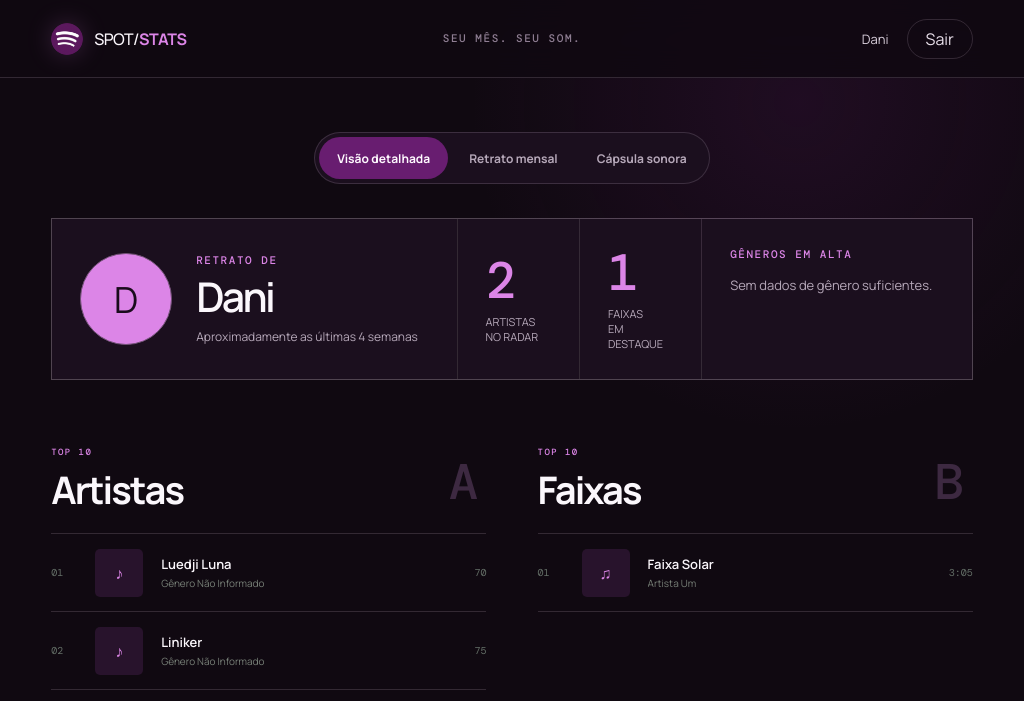
Scenario: SpotStatsPage › não exibe o bloco de destaques retornados quando a cápsula não tem gênero
What coordinates should you click on to do the following:
click the tab "Cápsula sonora"
I would click on:
 (642, 158)
Its box is [579,137,705,179].
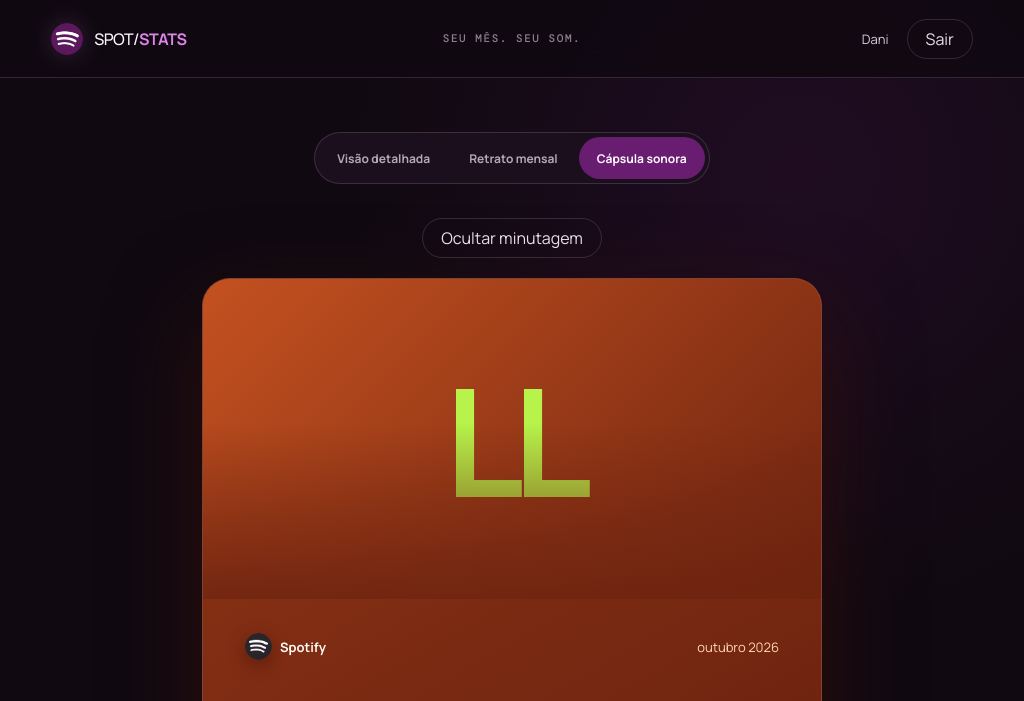
Check: the picture named "capa sem imagem" is shown, box [444,336,580,542]
